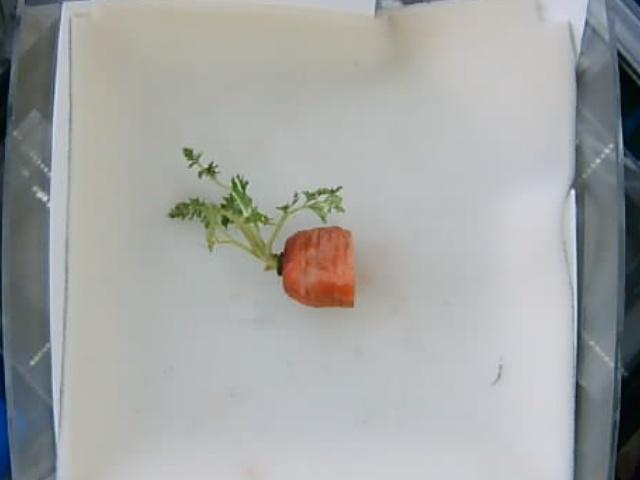Carrot: (165, 147, 354, 307)
